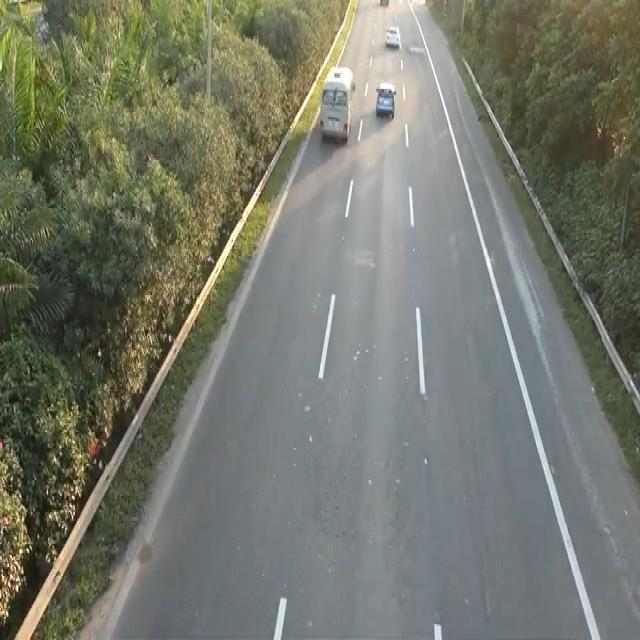bus: (374, 78, 396, 119), (384, 23, 400, 48)
jeep: (317, 62, 356, 144)
